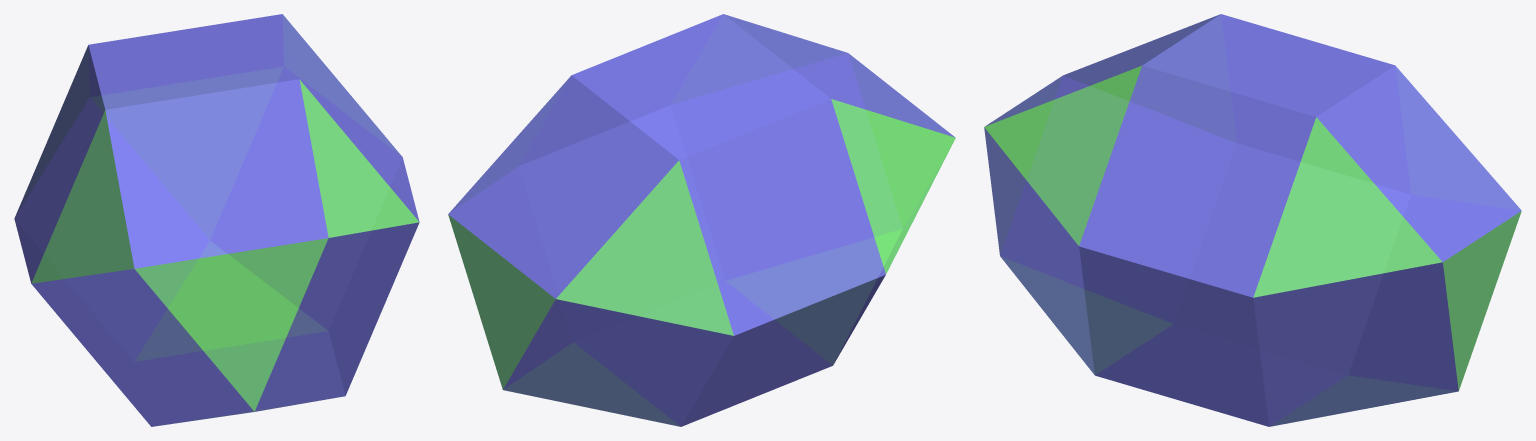
The model's file is j35_elongated_triangular_orthobicupola.obj.
3 views of the same model, side by side, from view 1: azimuth 30°, elevation 25°; view 2: azimuth 150°, elevation 25°; view 3: azimuth 270°, elevation 25° (orthographic). The views are drawn at different scales.
Size of the model in its own units: 1.81 by 1.57 by 2.26.
